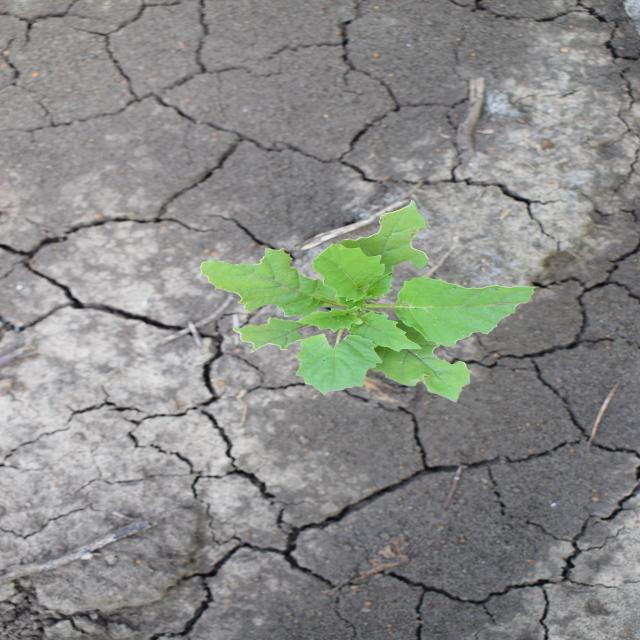CutleafGroundcherry: (196, 196, 544, 405)
